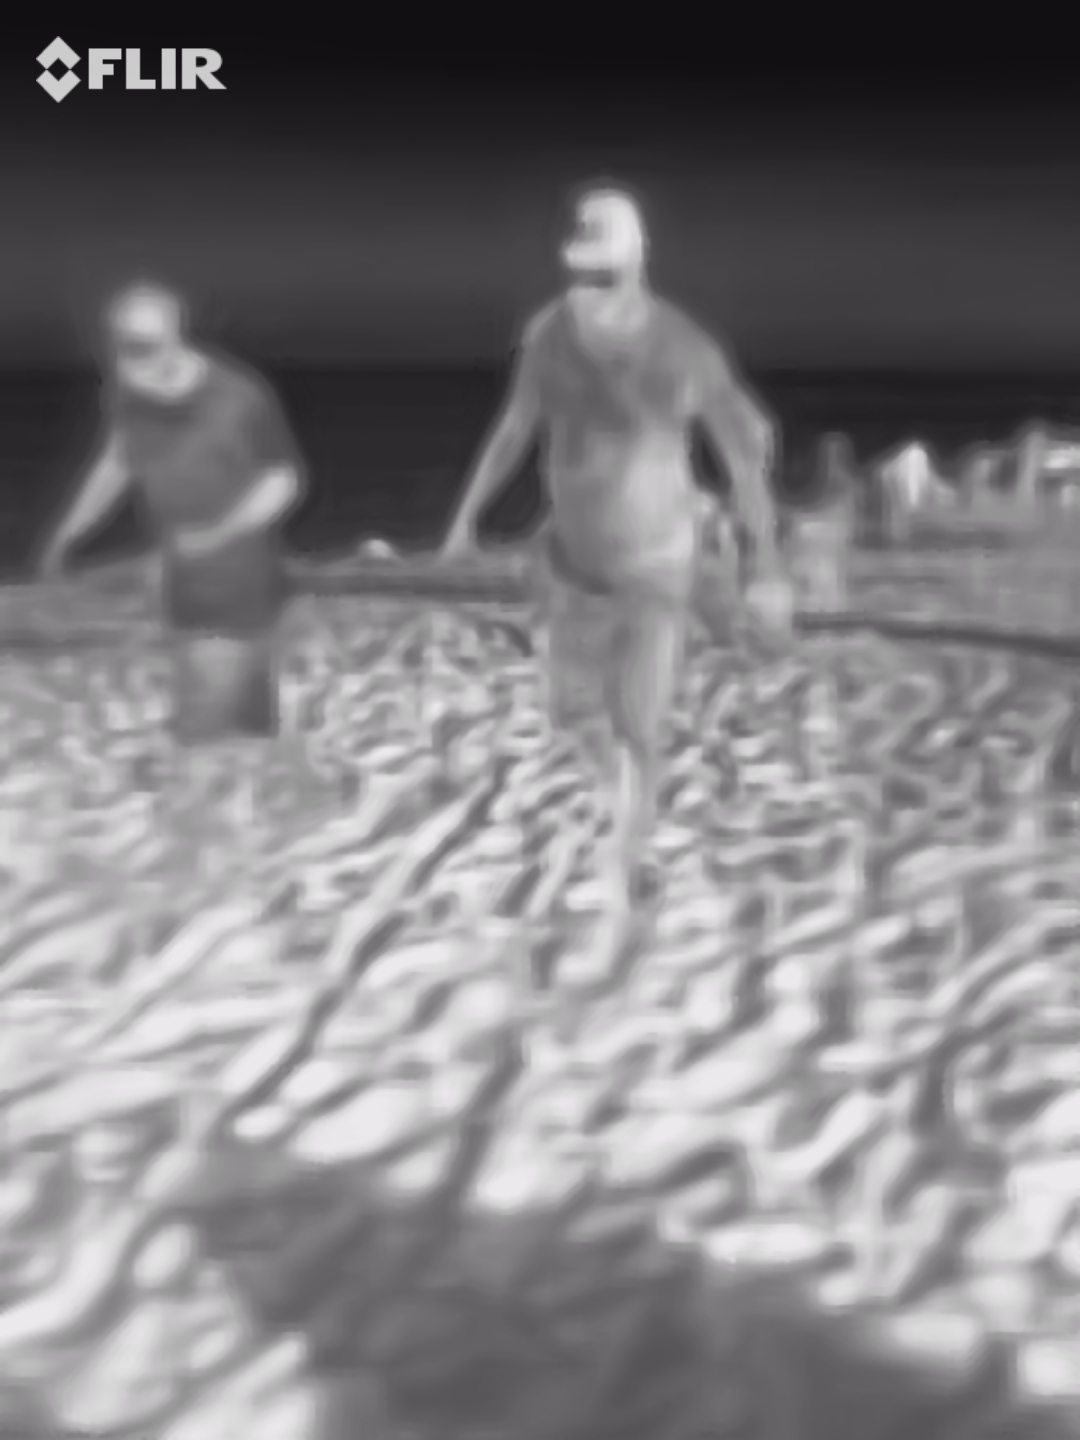head: (559, 180, 647, 342), (98, 280, 191, 400)
